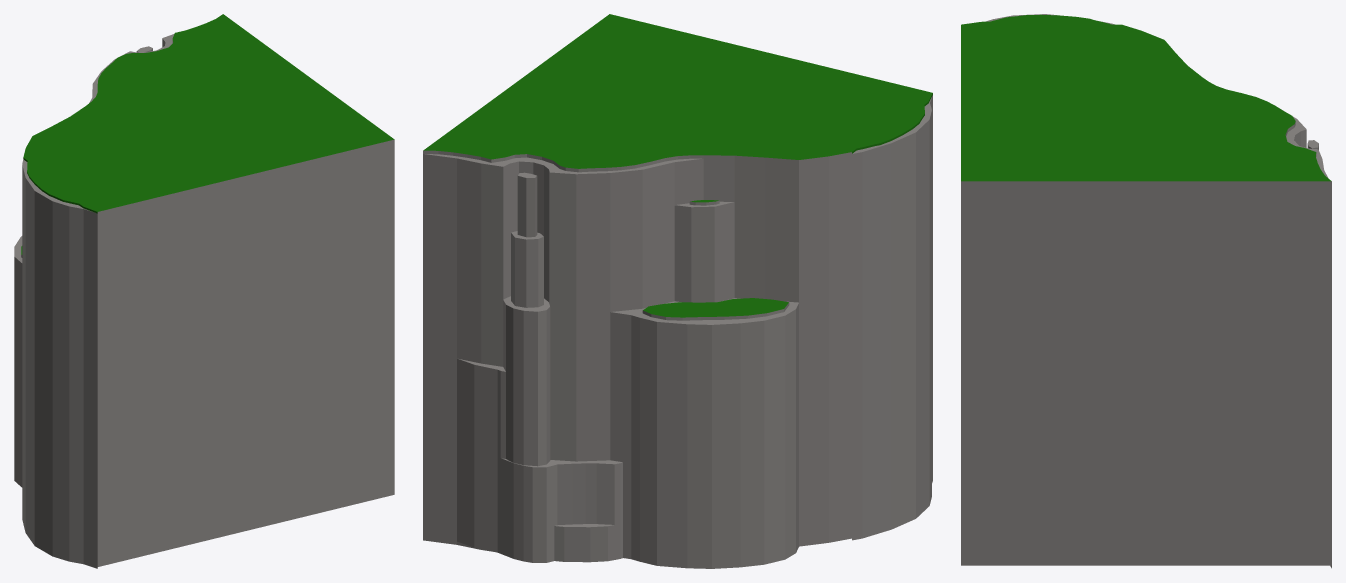
File: Corner1.fbx
The picture shows the model from 3 angles, left to right: view 1: azimuth 30°, elevation 25°; view 2: azimuth 150°, elevation 25°; view 3: azimuth 270°, elevation 25°; orthographic projection. The views are drawn at different scales.
Parts seen in each view (by area): view 1: Plane.004; view 2: Plane.004; view 3: Plane.004.
Part boxes in pixels (<box>): Plane.004: <box>14,14,394,568</box>; Plane.004: <box>423,14,932,568</box>; Plane.004: <box>961,14,1331,568</box>.
Size of the model in its own units: 94.51 by 101 by 87.5.
